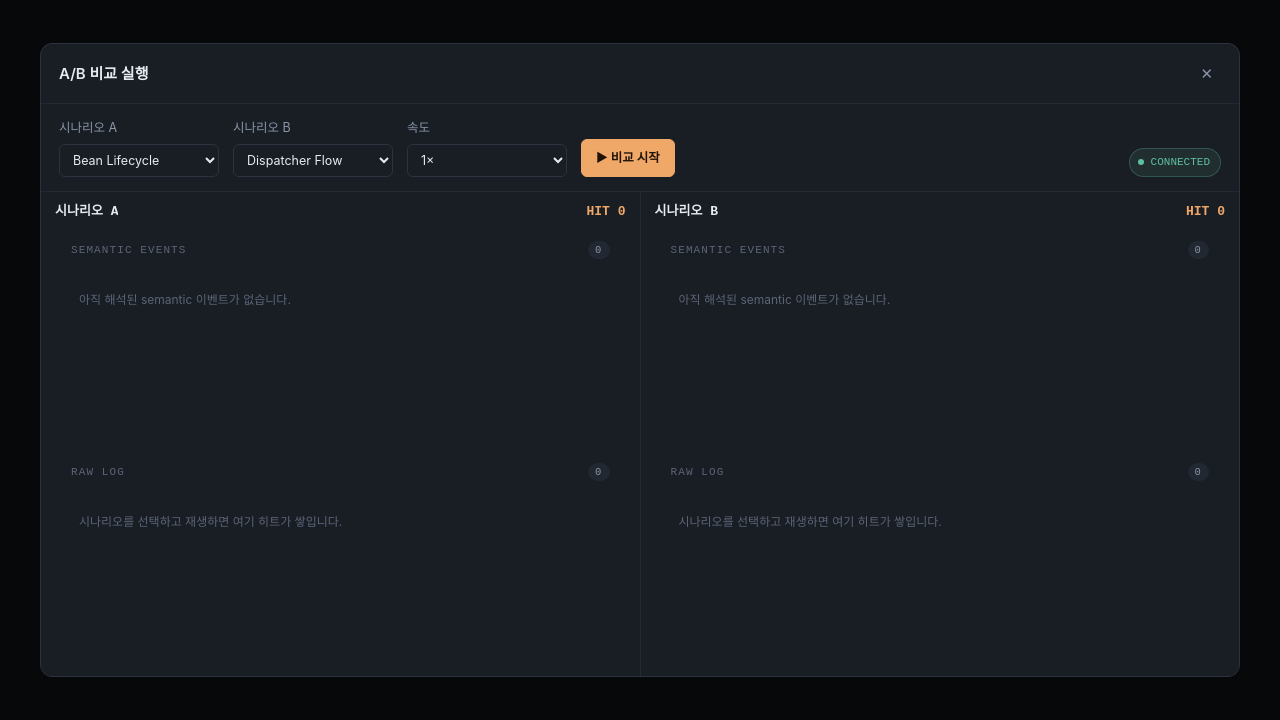
Test case: ComparisonModal › routes incoming messages to the matching side by scenario name
The image size is (1280, 720).
Expected: the 1st dropdown shows "Bean Lifecycle", top-left (59, 144), bottom-right (219, 177)
What coordinates should you click on to do the following:
click the button "▶ 비교 시작"
I would click on:
 (628, 158)
Its box is top-left (581, 140), bottom-right (675, 177).
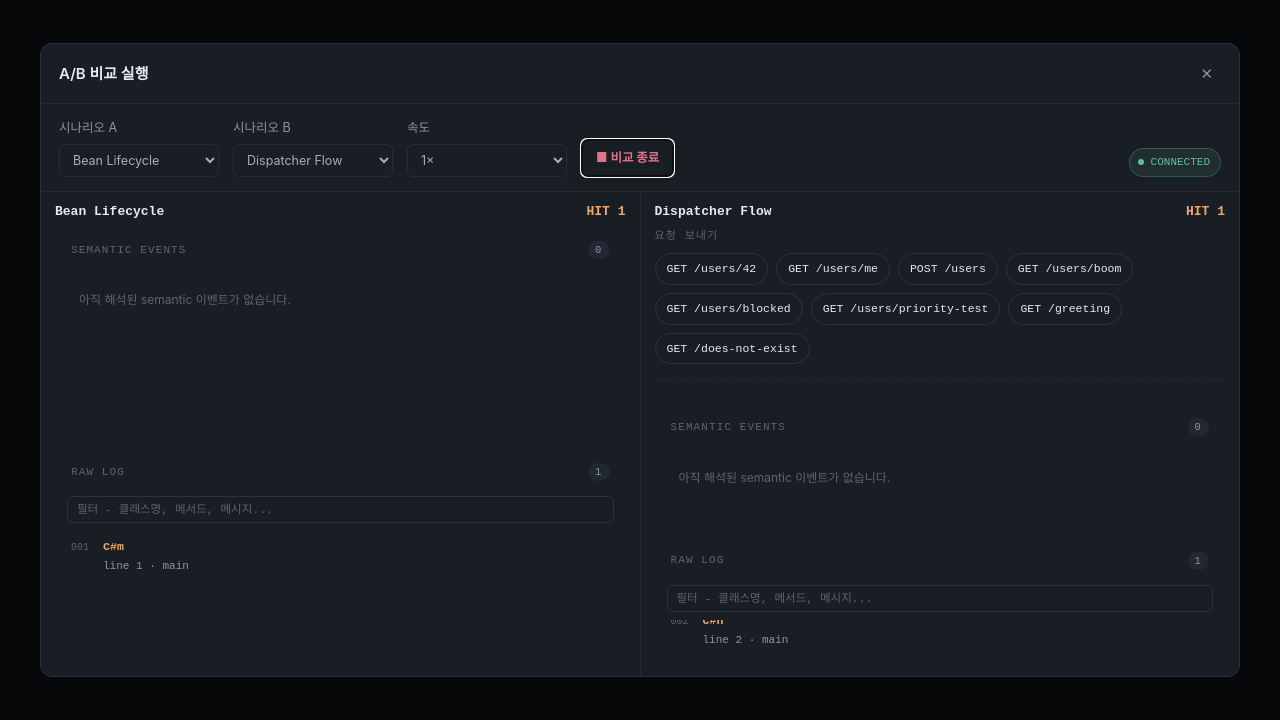
Expected: the text "HIT 1" in the row of "Bean Lifecycle" is shown, top-left (586, 202), bottom-right (626, 222)
Expected: the text "HIT 1" in the row of "Dispatcher Flow" is shown, top-left (1186, 202), bottom-right (1225, 222)
